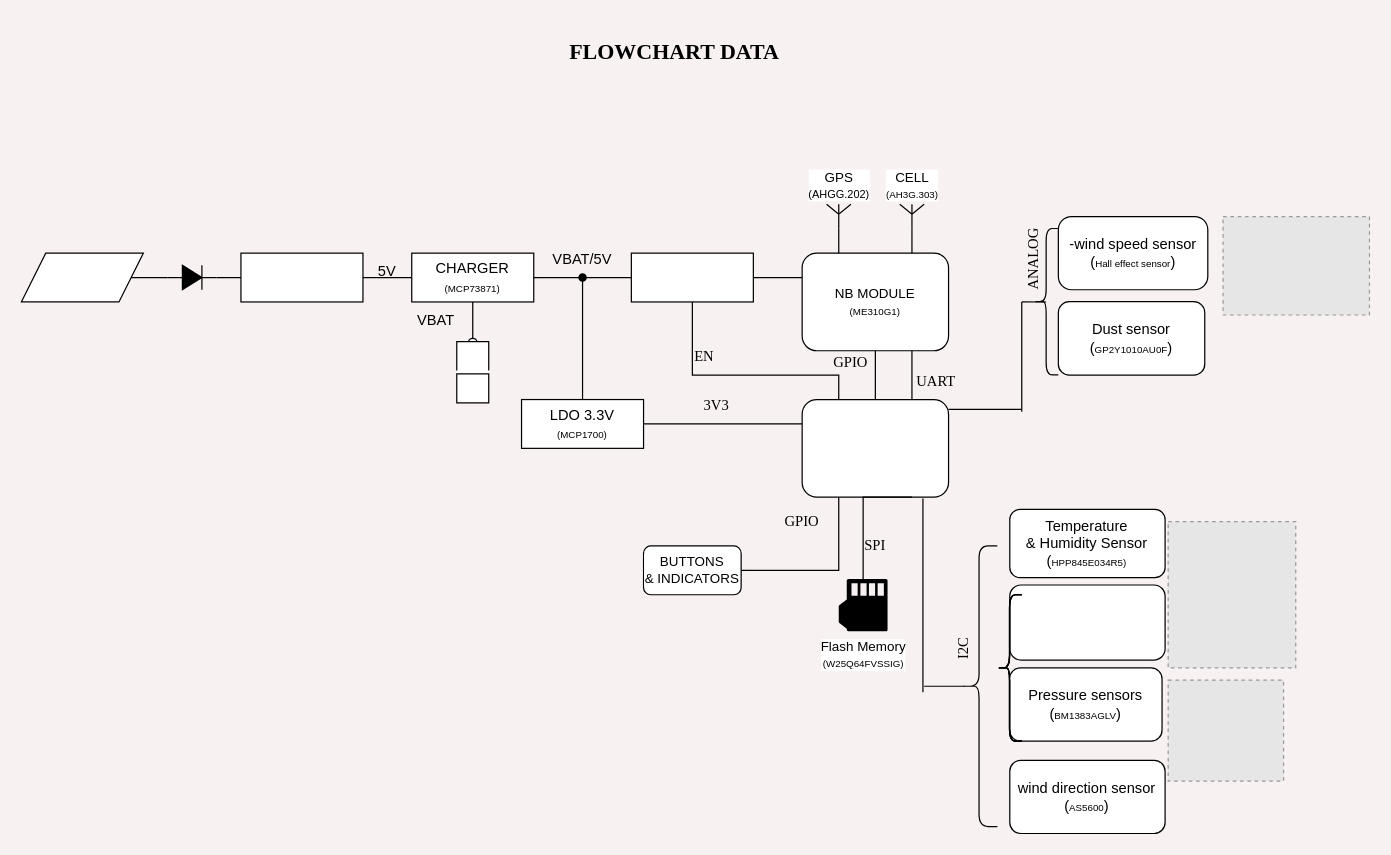
This 1391x855 diagram has some shape labels left out. Grey dashed boxes stand in for pictures. The shapes that lost their labels are listed below. From the top down, each one's centre as x and y in pixels, then its label:
At [81,277]: "Solar (6V/2W)".
At [301,277]: "BUCK 5V (MT1470)".
At [691,277]: "BUCK 3.8V (MT1470)".
At [472,370]: "Li-Ion 3.7V 2x 3.4Ah (NCR18650B)".
At [875,447]: "MCU (PIC32MM0256GPM048)".
At [1087,622]: "Rainfall Sensor (HMC5883L )".
